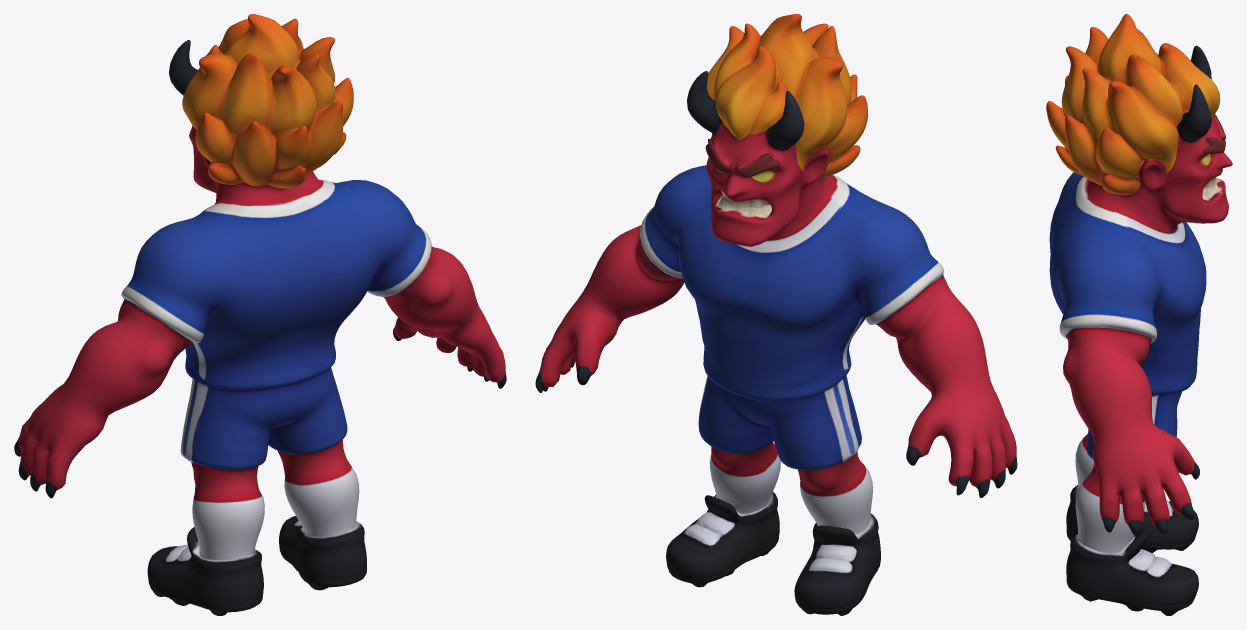
Rendered from sangre.glb.
3 renders of one model, left to right at view 1: azimuth 30°, elevation 25°; view 2: azimuth 150°, elevation 25°; view 3: azimuth 270°, elevation 25°, orthographic. The views are drawn at different scales.
Visible parts, largest first — view 1: char; view 2: char; view 3: char.
Part boxes in pixels (left/top/right/bottom): char: left=14, top=14, right=506, bottom=615; char: left=535, top=14, right=1017, bottom=615; char: left=1046, top=14, right=1232, bottom=615.
Bounding box in the file's own units: 1.41 × 1.7 × 0.5181.
Materials: 1 (1 with a texture image).
